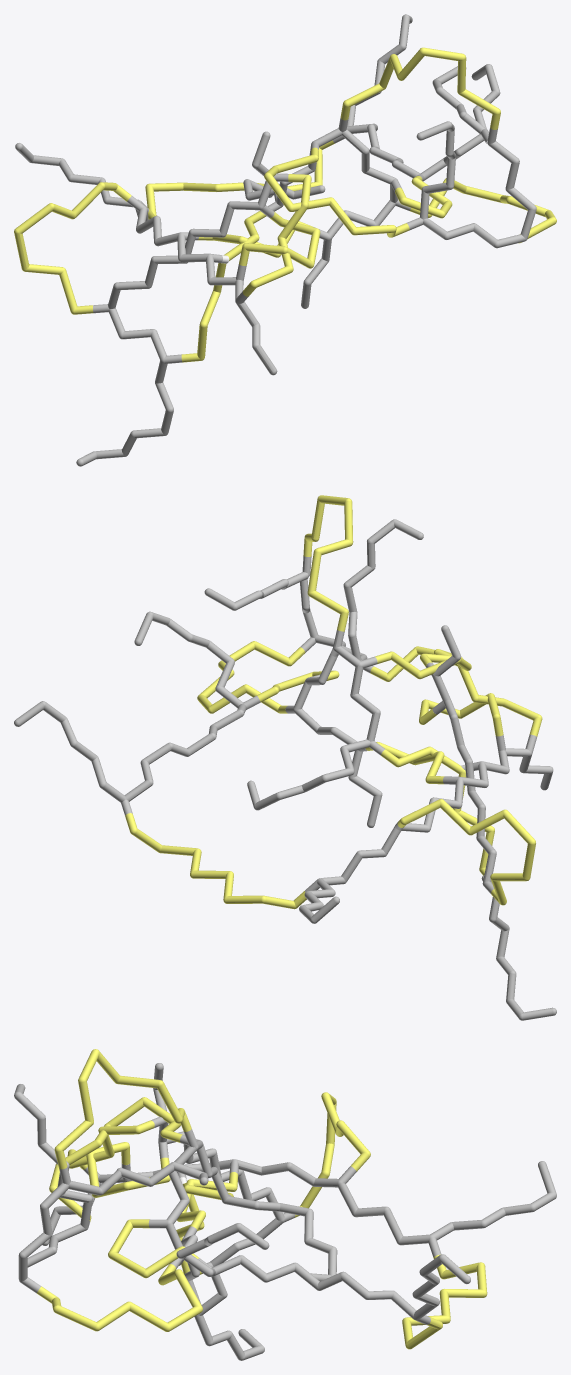
File: Elastomer_Nudel_neu.gltf
3 views of the same model, one above another, from view 1: azimuth 30°, elevation 25°; view 2: azimuth 150°, elevation 25°; view 3: azimuth 270°, elevation 25° (orthographic). The views are drawn at different scales.
Visible parts, largest first — view 1: no part large enough to name; view 2: no part large enough to name; view 3: VCyl570, VCyl068.
Boxes of the visible parts, <box> form: VCyl570: <box>55,1305,97,1330</box>; VCyl068: <box>129,1302,168,1331</box>.
Bounding box in the file's own units: 0.6601 × 0.5563 × 0.6281.
